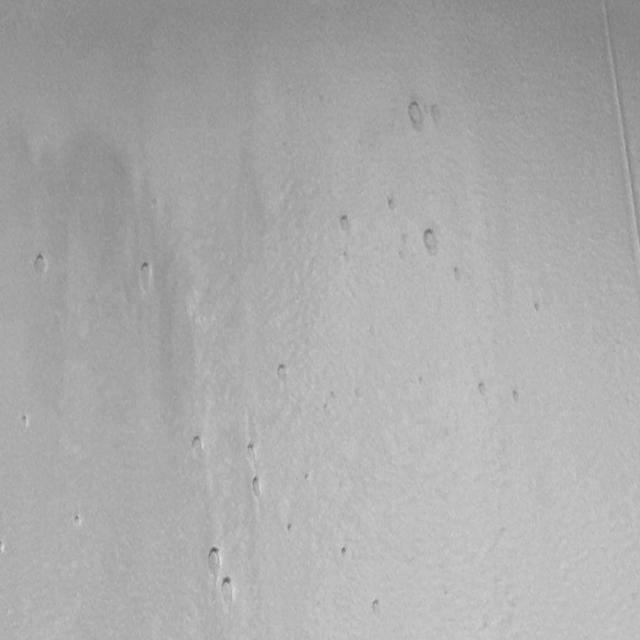pin holes: (404, 98, 429, 136), (136, 259, 158, 293), (420, 227, 444, 257), (216, 576, 236, 608), (31, 250, 52, 280), (204, 546, 224, 576), (186, 432, 207, 460), (336, 212, 356, 238), (473, 379, 493, 405), (247, 474, 265, 500), (368, 598, 386, 620), (16, 412, 34, 434), (274, 362, 291, 383), (384, 193, 400, 214), (245, 440, 259, 464), (510, 388, 526, 408), (451, 265, 466, 285), (532, 298, 547, 316), (71, 511, 83, 529), (339, 545, 352, 560), (415, 373, 428, 388), (320, 401, 330, 420), (302, 471, 314, 485), (286, 520, 296, 536), (0, 539, 8, 556)
